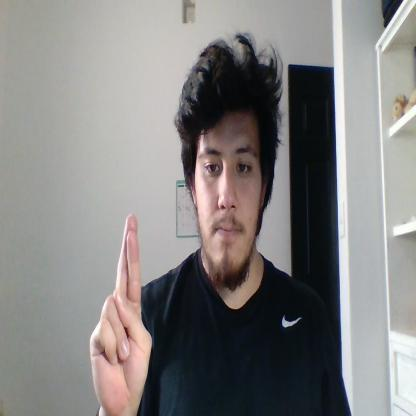R: (90, 213, 153, 415)
